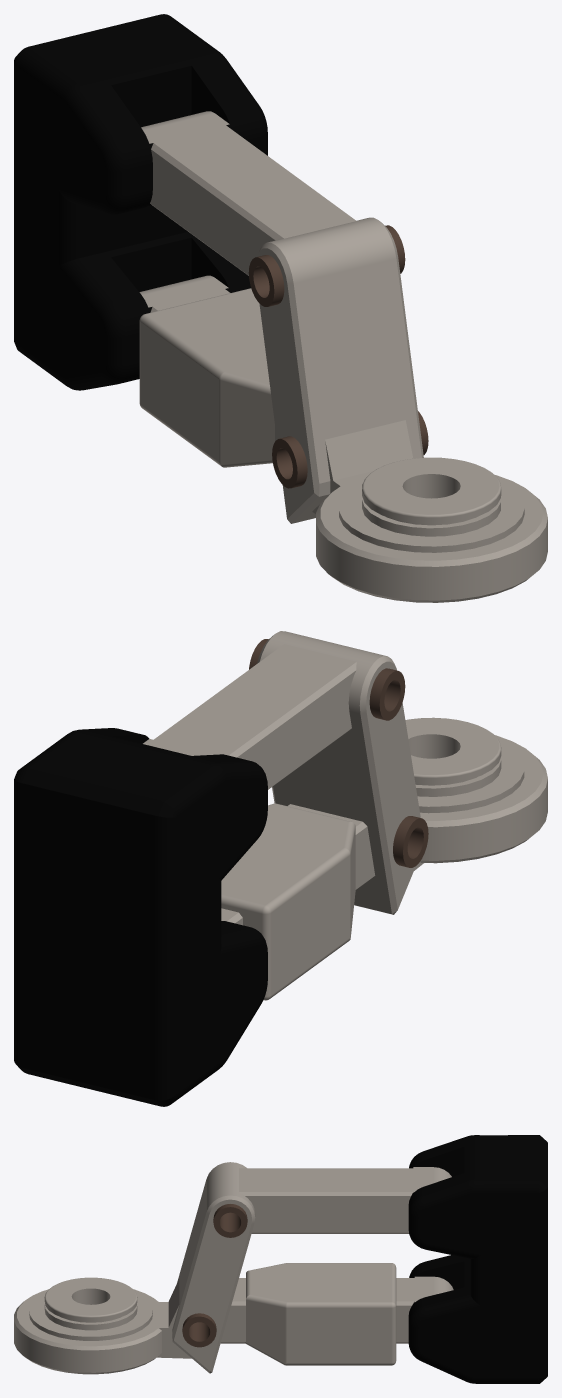
File: suspension_right.dae
3 views of the same model, one above another, from view 1: azimuth 30°, elevation 25°; view 2: azimuth 150°, elevation 25°; view 3: azimuth 270°, elevation 25° (orthographic). The views are drawn at different scales.
Visible parts, largest first — view 1: _3DGeom-184, _3DGeom-185, _3DGeom-186, _3DGeom-187; view 2: _3DGeom-185, _3DGeom-184, _3DGeom-186, _3DGeom-187; view 3: _3DGeom-184, _3DGeom-185, _3DGeom-186, _3DGeom-187.
Part boxes in pixels (box(x1,y1,x2,y2)): _3DGeom-184: box(139, 111, 547, 602); _3DGeom-185: box(14, 14, 267, 390); _3DGeom-186: box(248, 225, 428, 488); _3DGeom-187: box(253, 266, 292, 479); _3DGeom-185: box(14, 728, 267, 1106); _3DGeom-184: box(143, 631, 547, 1000); _3DGeom-186: box(249, 639, 428, 867); _3DGeom-187: box(384, 680, 423, 858); _3DGeom-184: box(14, 1162, 453, 1374); _3DGeom-185: box(408, 1135, 547, 1383); _3DGeom-186: box(182, 1204, 247, 1347); _3DGeom-187: box(188, 1212, 241, 1341).
Size of the model in its own units: 0.0999 by 0.3448 by 0.145.
